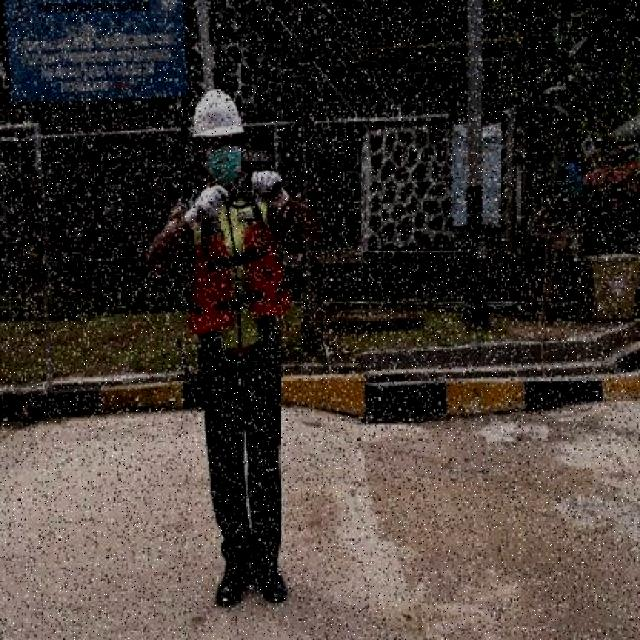Boots: (215, 556, 252, 609), (255, 560, 292, 606)
Gloves: (183, 184, 229, 236), (250, 166, 290, 219)
Helmet: (191, 88, 246, 140)
Mask: (186, 221, 289, 336)
